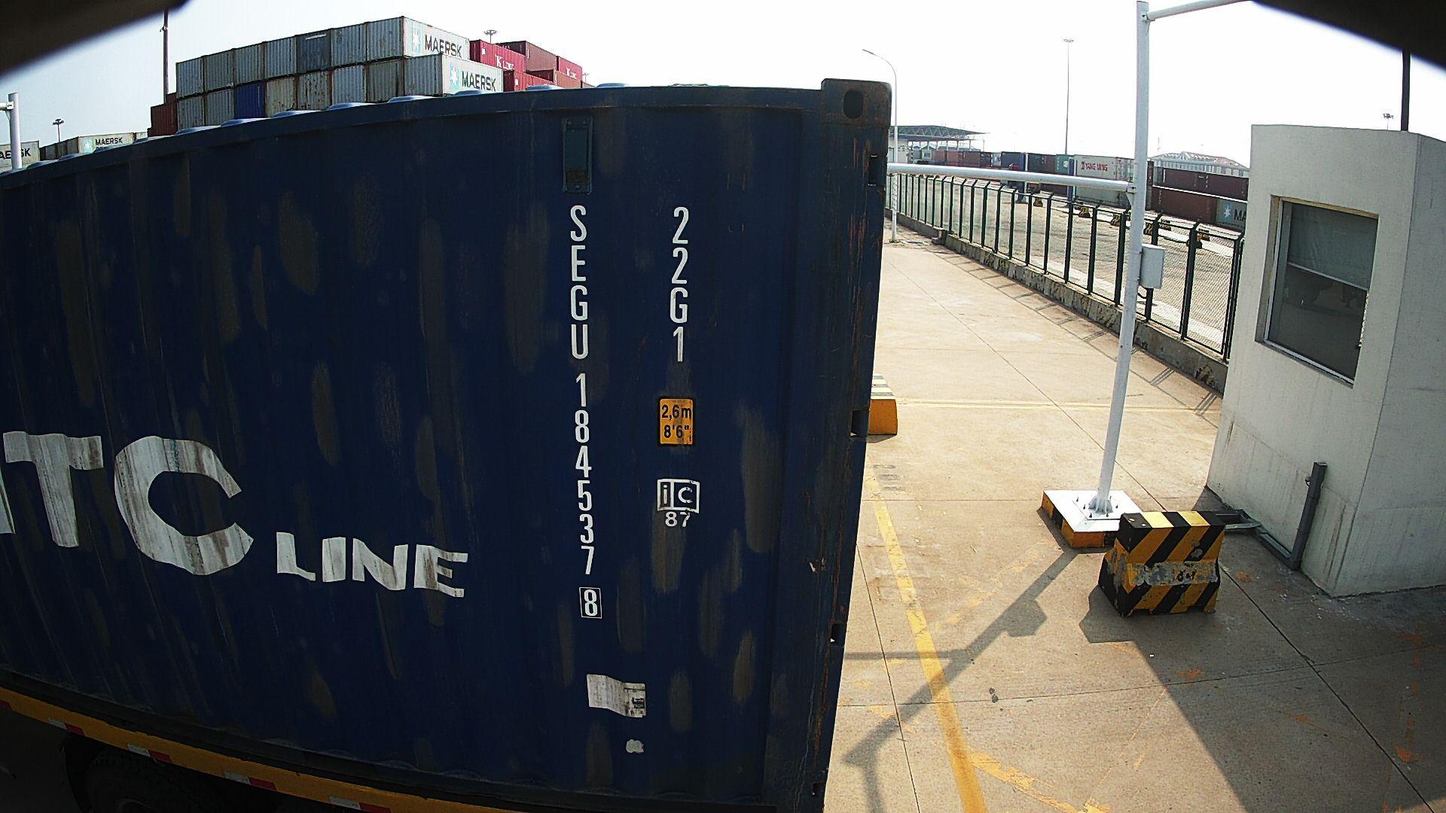container-numbers: (563, 201, 609, 625), (659, 203, 696, 373)
